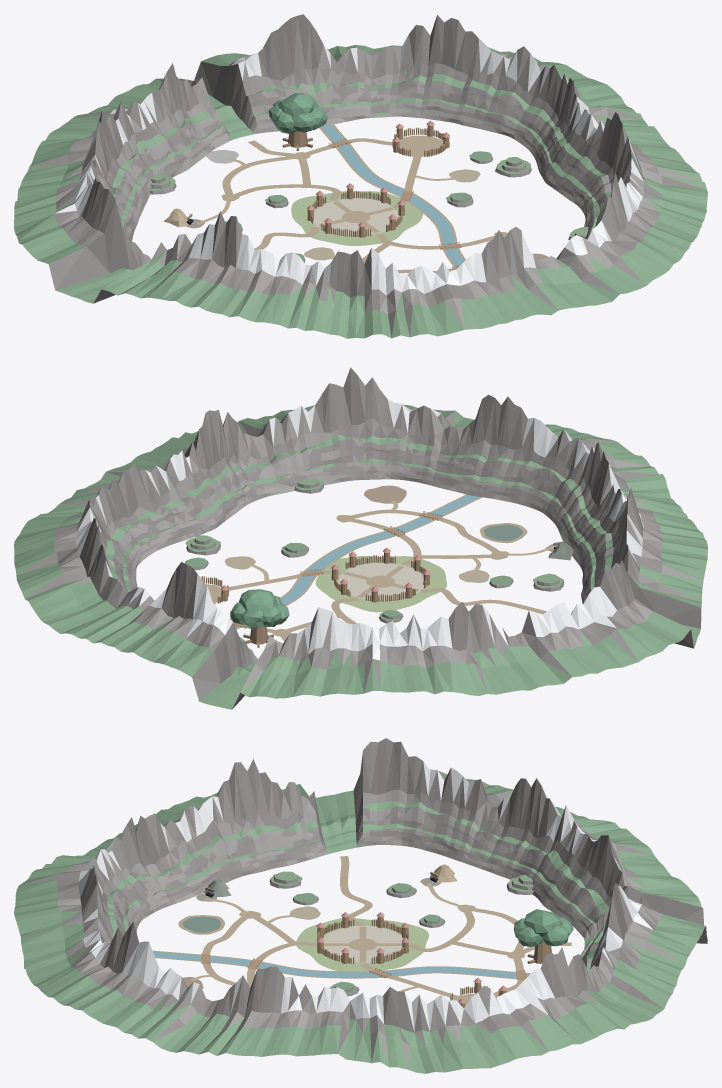
The model's file is map_field_forest.glb.
The picture shows the model from 3 angles, top to bottom: view 1: azimuth 30°, elevation 25°; view 2: azimuth 150°, elevation 25°; view 3: azimuth 270°, elevation 25°; orthographic projection.
Parts seen in each view (by area): view 1: Z_field_forest_penhascos, Z_field_forest_chao_clareira, Z_field_forest_agua_rio_1, Z_field_forest_chao_posto, Z_field_forest_margem_rio_1, Z_field_forest_praca_bandidos, Z_field_forest_arvore_mae_copa_0, Z_field_forest_estrada_arco_aranhas, Z_field_forest_estrada_N; view 2: Z_field_forest_penhascos, Z_field_forest_chao_clareira, Z_field_forest_chao_posto, Z_field_forest_agua_rio_1, Z_field_forest_margem_rio_1, Z_field_forest_estrada_arco_sul, Z_field_forest_arvore_mae_copa_0, Z_field_forest_chao_emboscada, Z_field_forest_estrada_W; view 3: Z_field_forest_penhascos, Z_field_forest_chao_clareira, Z_field_forest_agua_rio_1, Z_field_forest_chao_posto, Z_field_forest_margem_rio_1, Z_field_forest_arvore_mae_copa_0, Z_field_forest_estrada_W, Z_field_forest_estrada_arco_sul.
Part boxes in pixels (x1,y1,x2,y2): Z_field_forest_penhascos: (14,14,707,338); Z_field_forest_chao_clareira: (291,191,423,245); Z_field_forest_agua_rio_1: (321,125,464,266); Z_field_forest_chao_posto: (313,198,399,235); Z_field_forest_margem_rio_1: (319,124,465,267); Z_field_forest_praca_bandidos: (399,135,443,156); Z_field_forest_arvore_mae_copa_0: (278,92,318,116); Z_field_forest_estrada_arco_aranhas: (222,154,302,197); Z_field_forest_estrada_N: (228,184,340,200); Z_field_forest_penhascos: (14,367,707,709); Z_field_forest_chao_clareira: (315,556,446,612); Z_field_forest_chao_posto: (336,563,423,600); Z_field_forest_agua_rio_1: (235,495,479,628); Z_field_forest_margem_rio_1: (232,494,482,629); Z_field_forest_estrada_arco_sul: (344,509,503,555); Z_field_forest_arvore_mae_copa_0: (239,589,277,612); Z_field_forest_chao_emboscada: (364,485,406,503); Z_field_forest_estrada_W: (420,588,546,614); Z_field_forest_penhascos: (14,738,707,1073); Z_field_forest_chao_clareira: (296,918,429,971); Z_field_forest_agua_rio_1: (153,951,529,978); Z_field_forest_chao_posto: (322,925,403,962); Z_field_forest_margem_rio_1: (152,950,530,979); Z_field_forest_arvore_mae_copa_0: (524,909,562,937); Z_field_forest_estrada_W: (340,856,372,926); Z_field_forest_estrada_arco_sul: (202,914,251,987).
Bounding box in the file's own units: 370 × 54.15 × 363.
